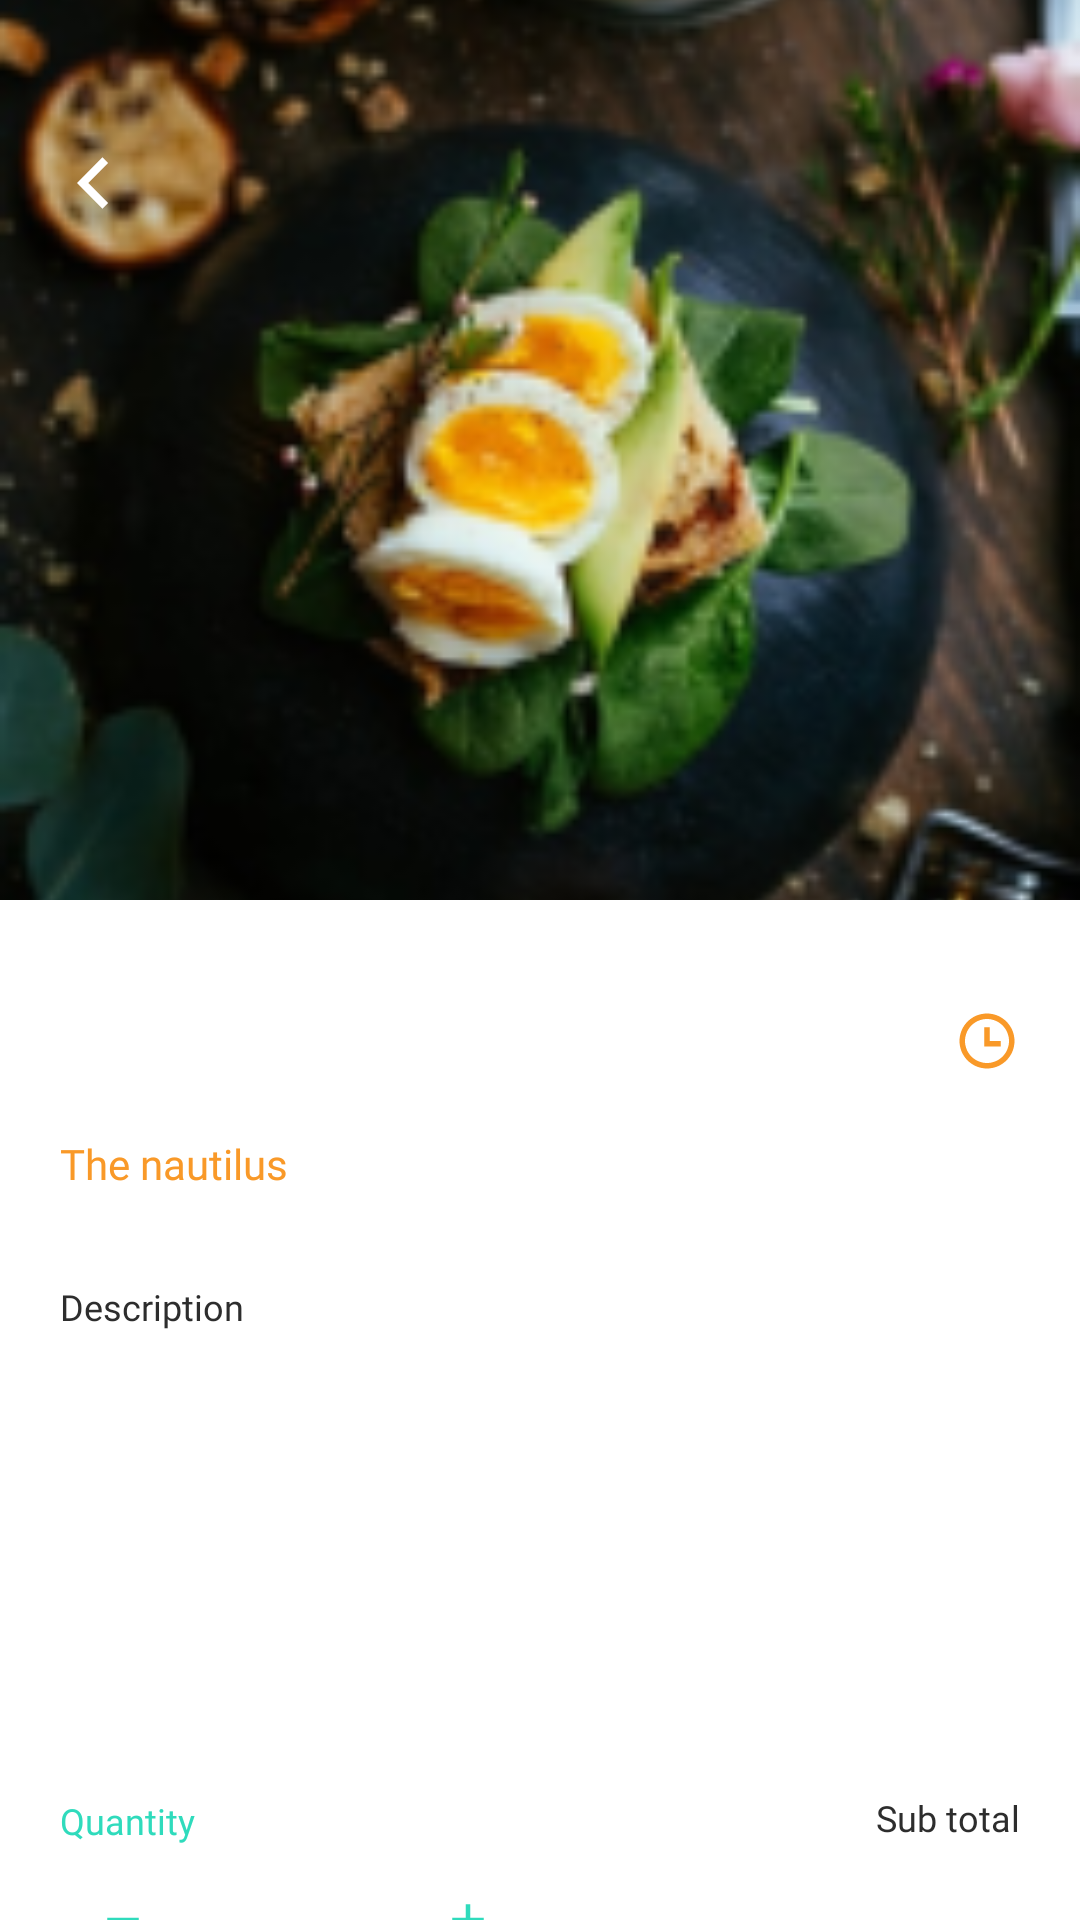

Screen size 1080x1920. Icon name, then its center in pixels as point (x, y):
back: point (93, 183)
clock: point (987, 1041)
